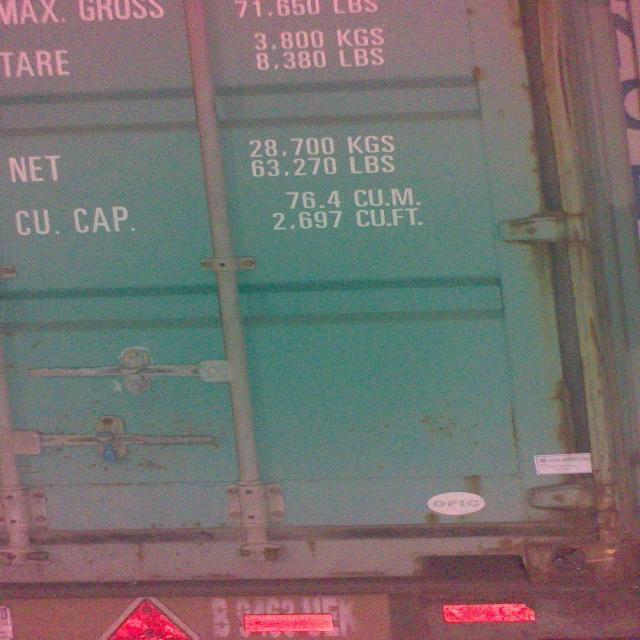seal: (92, 429, 122, 463)
